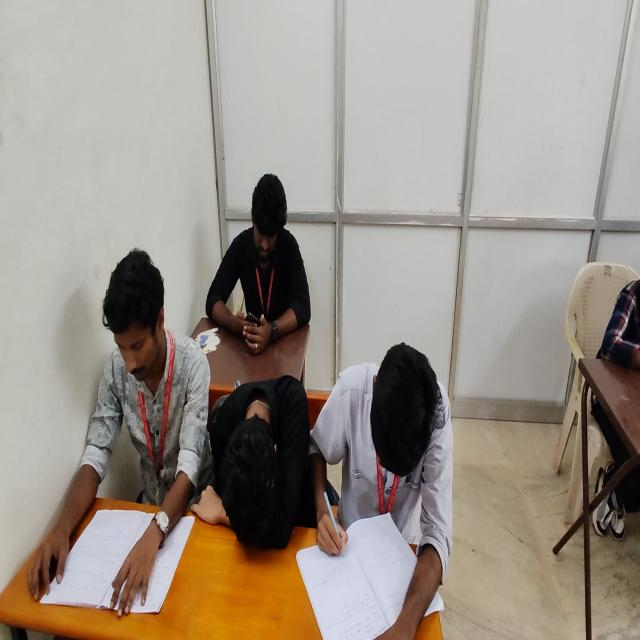reading: (25, 250, 214, 620)
sleeping: (192, 371, 336, 555)
using_mobile: (204, 173, 311, 354)
writing: (308, 343, 449, 639)
